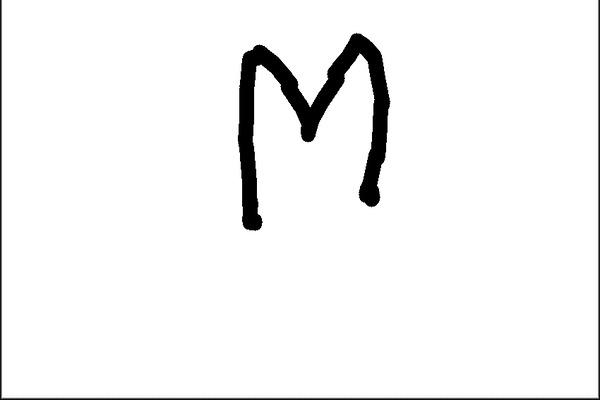M: (230, 28, 394, 237)
